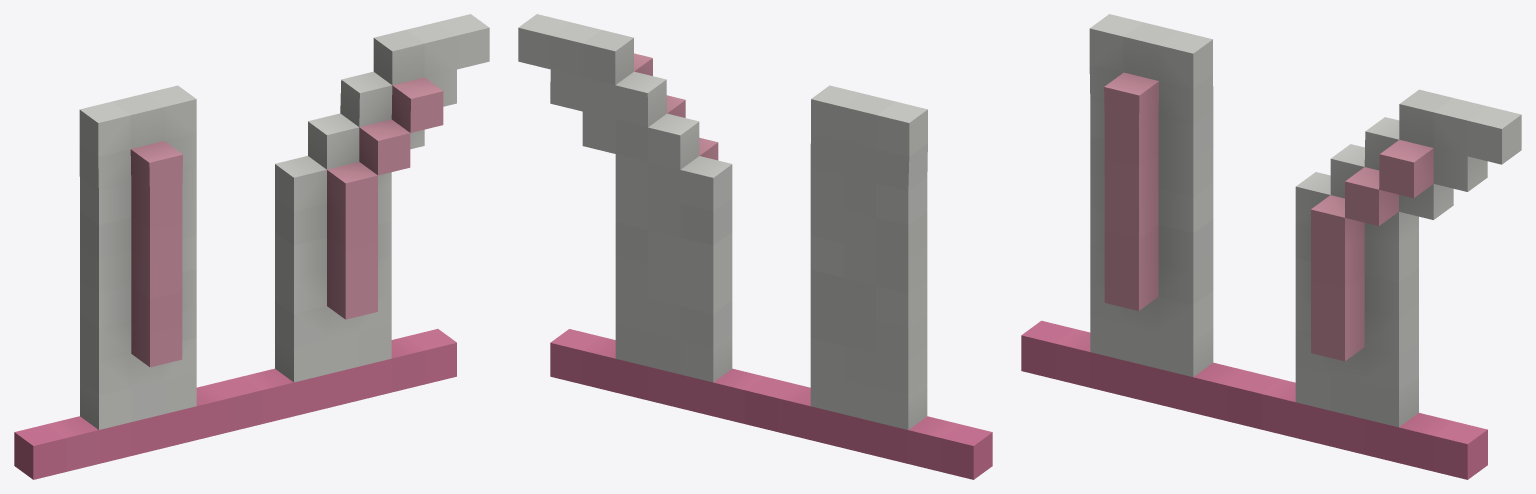
File: hat_bunny.glb
3 views of the same model, side by side, from view 1: azimuth 30°, elevation 25°; view 2: azimuth 150°, elevation 25°; view 3: azimuth 330°, elevation 25° (orthographic). The views are drawn at different scales.
Visible parts, largest first — view 1: Hat; view 2: Hat; view 3: Hat.
Boxes of the visible parts, bbox=[...] form: Hat: bbox=[14, 14, 489, 479]; Hat: bbox=[518, 14, 992, 479]; Hat: bbox=[1021, 14, 1521, 479].
Size of the model in its own units: 1.54 by 1.1 by 0.2207.
